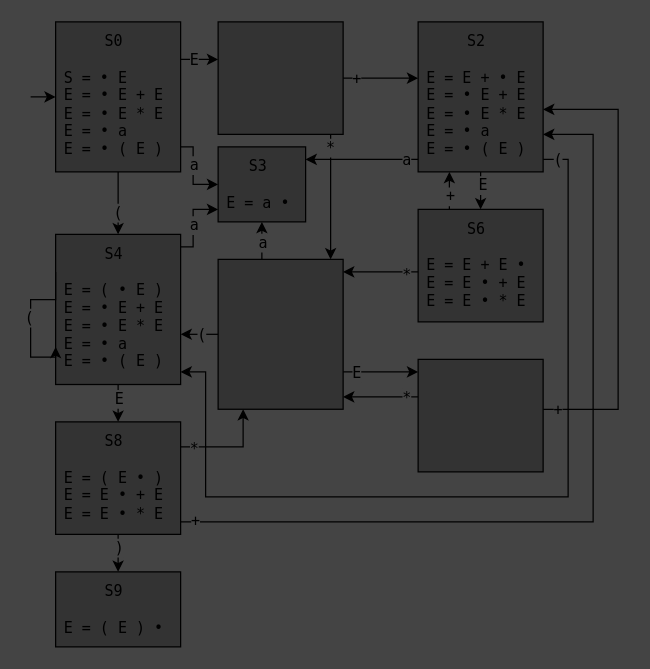
The diagram is 650 pixels wide and 669 high, and some of its shapes have lost their labels. Each missing label, with the centre of its shape:
S1 S = E • E = E • + E E = E • * E: [280,77]
S5 E = E * • E E = • E + E E = • E * E E = • a E = • ( E ): [280,333]
S7 E = E * E • E = E • + E E = E • * E: [480,415]
